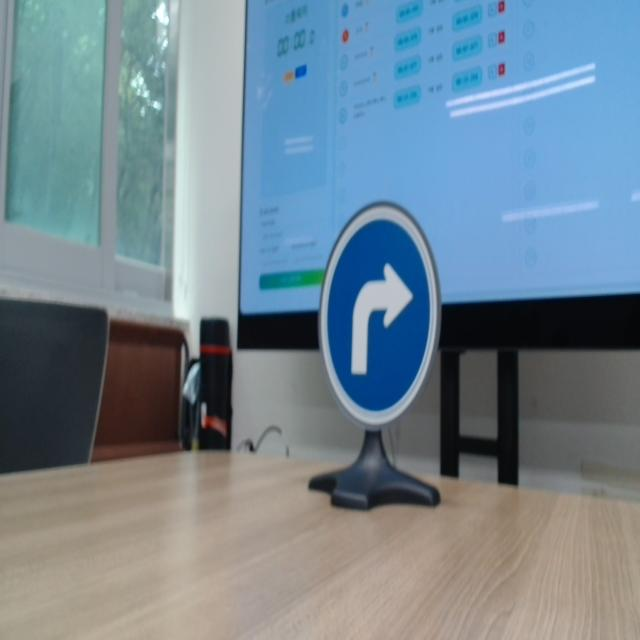right_dierection: (316, 201, 440, 422)
